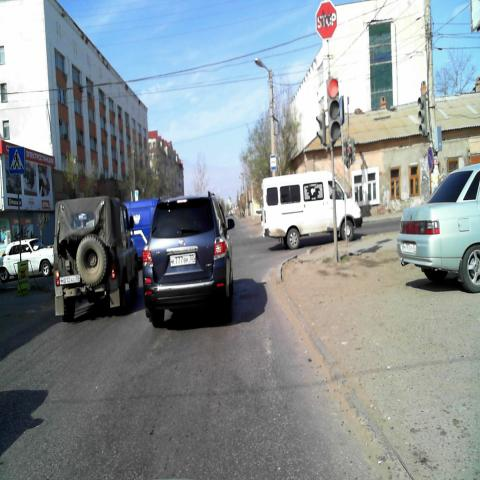3_28: (426, 147, 434, 172)
